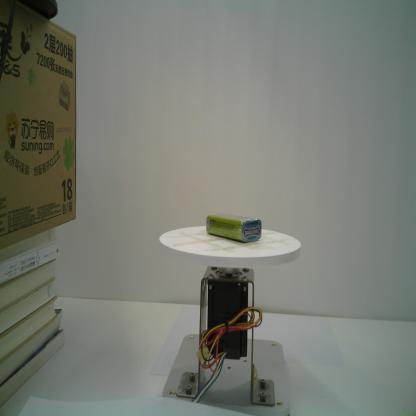Gum: (205, 212, 262, 244)
